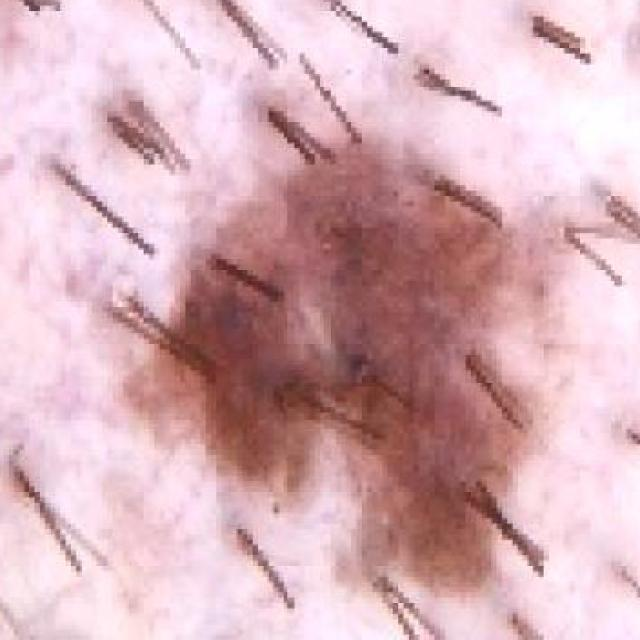AKIEC: (107, 76, 599, 617)
